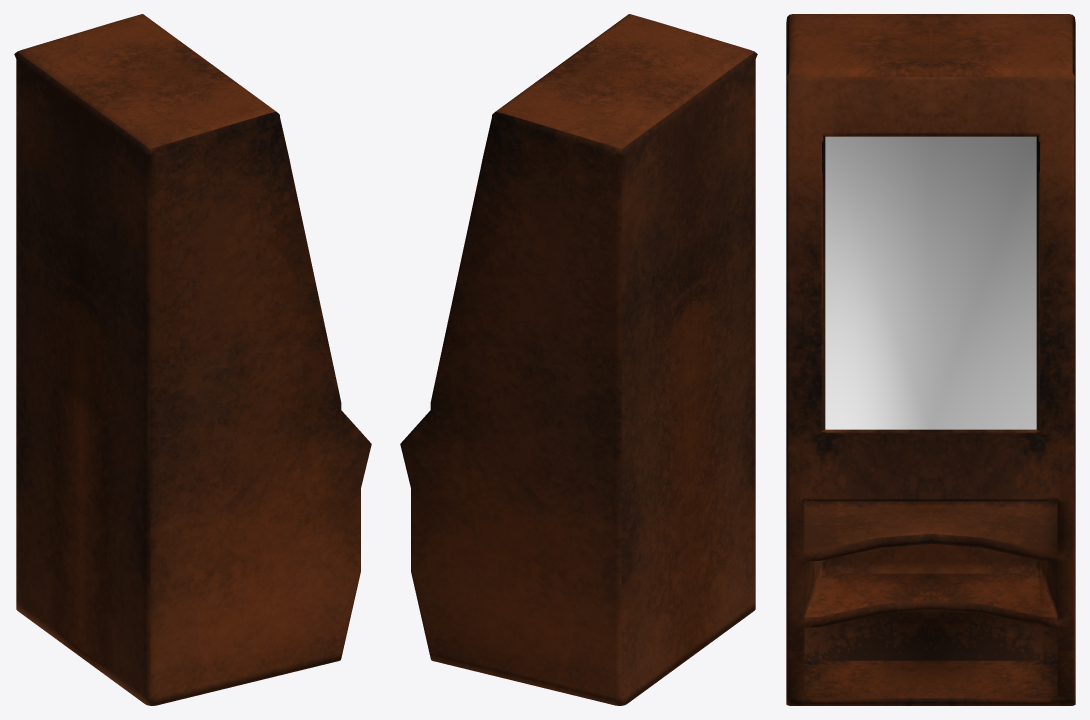
The model's file is Arcade.fbx.
The picture shows the model from 3 angles, left to right: view 1: azimuth 30°, elevation 25°; view 2: azimuth 150°, elevation 25°; view 3: azimuth 270°, elevation 25°; orthographic projection. The views are drawn at different scales.
Visible parts, largest first — view 1: Arcade; view 2: Arcade; view 3: Arcade.
Part boxes in pixels (box(x1,y1,x2,y2)): Arcade: box(14, 14, 371, 705); Arcade: box(400, 14, 757, 705); Arcade: box(786, 14, 1075, 705).
Size of the model in its own units: 190 by 459 by 200.
Materials: 2 (1 with a texture image).
